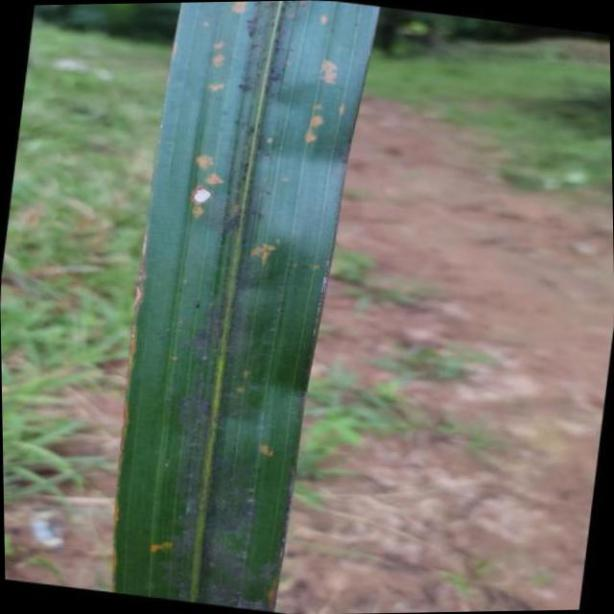Kalium: (115, 0, 382, 598)
